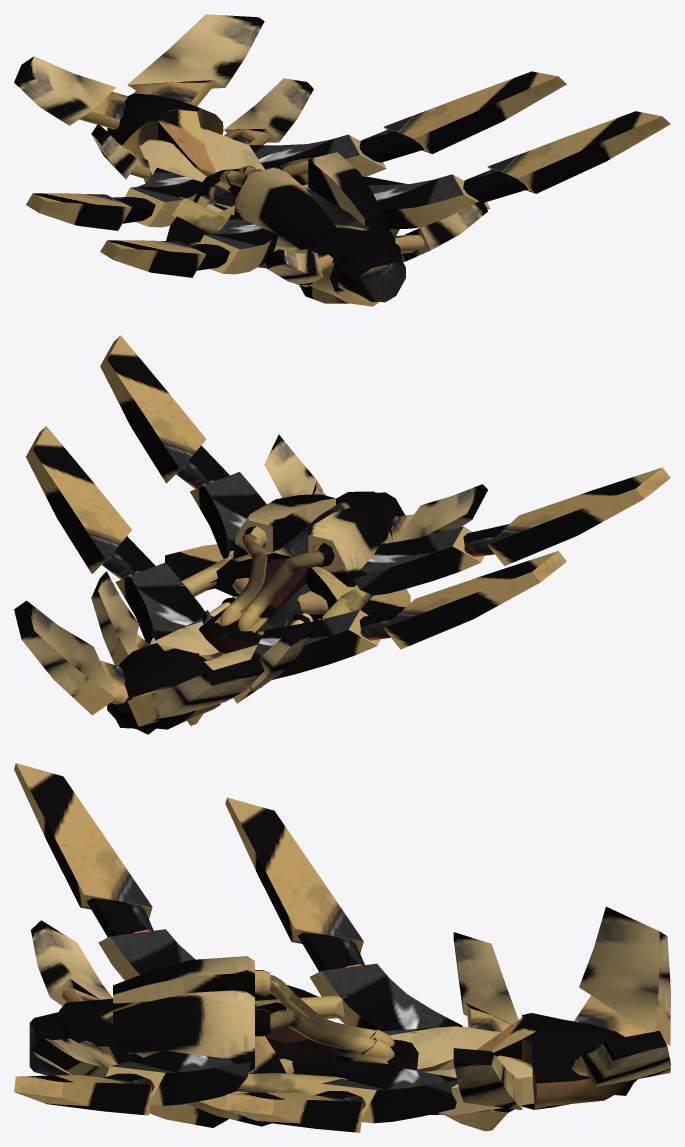
File: Soldier10.fbx
3 views of the same model, one above another, from view 1: azimuth 30°, elevation 25°; view 2: azimuth 150°, elevation 25°; view 3: azimuth 270°, elevation 25° (orthographic). The views are drawn at different scales.
Parts seen in each view (by area): view 1: 00_Core, 02_WingRight, 03_Nose, 01_WingLeft; view 2: 00_Core, 02_WingRight, 01_WingLeft, 03_Nose; view 3: 00_Core, 01_WingLeft, 02_WingRight, 03_Nose.
Part boxes in pixels (box(x1,y1,x2,y2)): 00_Core: box(91, 78, 487, 306); 02_WingRight: box(249, 71, 670, 236); 03_Nose: box(14, 14, 264, 156); 01_WingLeft: box(26, 167, 278, 277); 00_Core: box(91, 434, 487, 725); 02_WingRight: box(26, 335, 266, 644); 01_WingLeft: box(251, 467, 670, 679); 03_Nose: box(14, 600, 264, 734); 00_Core: box(29, 920, 541, 1131); 01_WingLeft: box(14, 763, 462, 1031); 02_WingRight: box(14, 1050, 457, 1132); 03_Nose: box(522, 906, 670, 1109).
Bounding box in the file's own units: 17805 × 5419 × 15326.
Materials: 1 (1 with a texture image).
